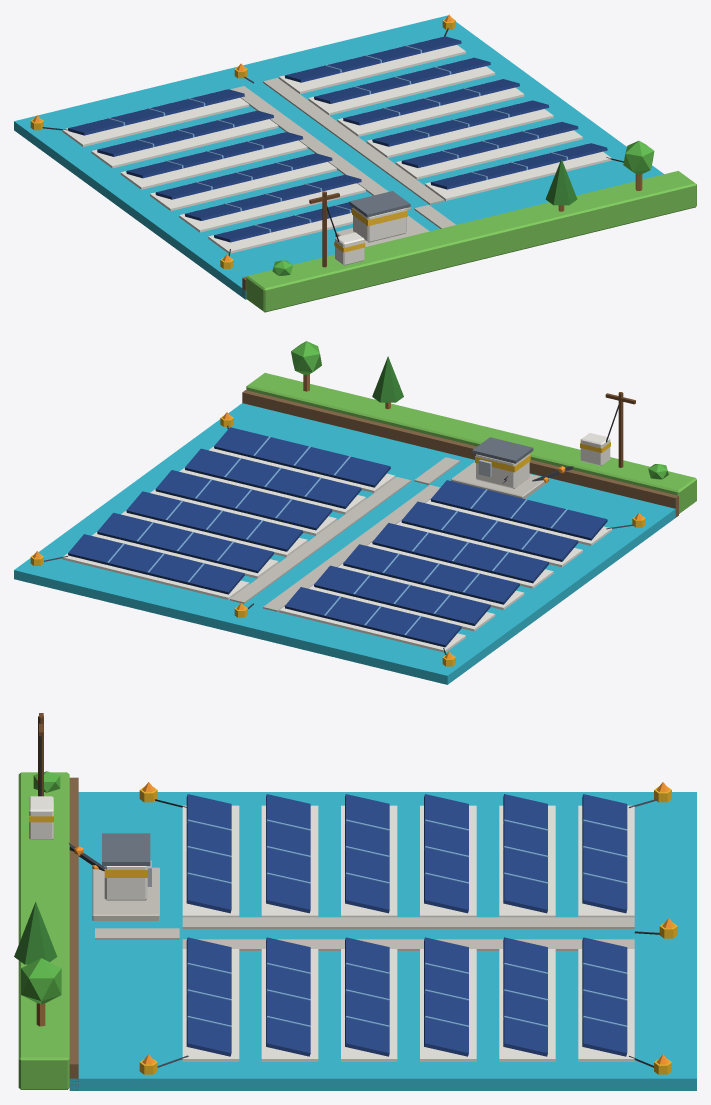
Rendered from solar_floating.glb.
3 renders of one model, top to bottom at view 1: azimuth 30°, elevation 25°; view 2: azimuth 150°, elevation 25°; view 3: azimuth 270°, elevation 25°, orthographic. The views are drawn at different scales.
Parts seen in each view (by area): view 1: corpo; view 2: corpo; view 3: corpo.
Boxes of the visible parts, x1=… form: corpo: x1=14, y1=14, x2=696, y2=312; corpo: x1=14, y1=341, x2=696, y2=684; corpo: x1=14, y1=713, x2=696, y2=1090.
Size of the model in its own units: 6 by 1.3 by 6.04.
